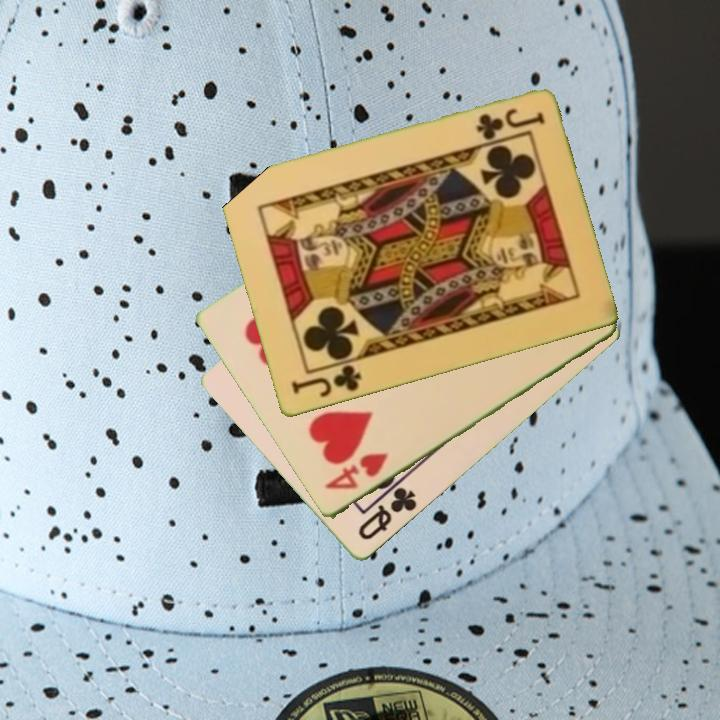4h: (320, 450, 391, 493)
Jc: (287, 361, 364, 401), (472, 105, 548, 144)
Qc: (354, 483, 420, 544)
